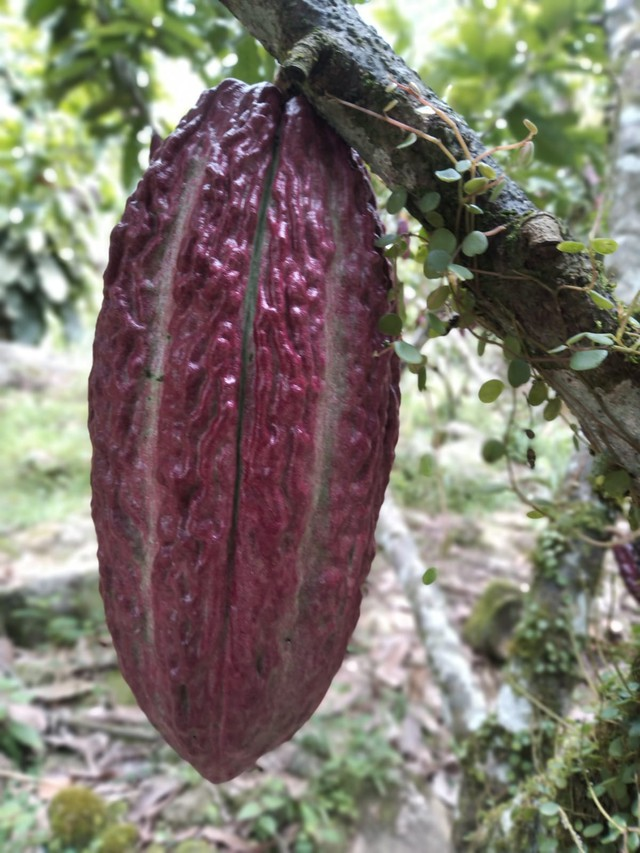Health: (67, 59, 441, 800)
